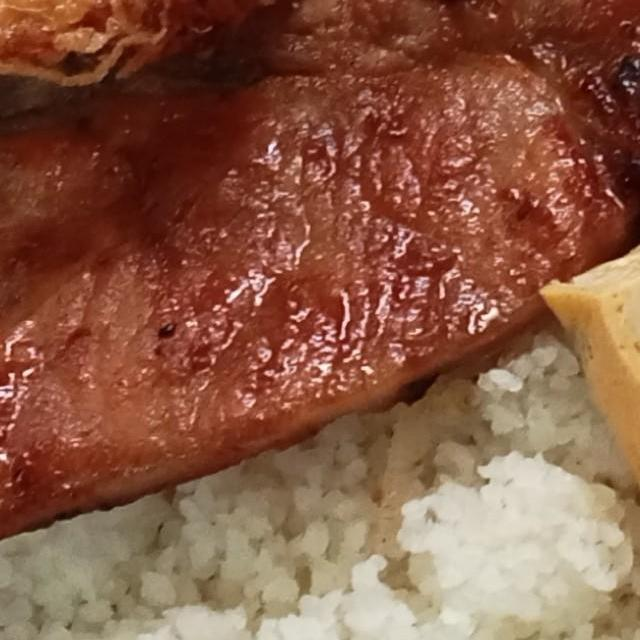com: (0, 300, 640, 640)
com suon bi cha trung: (0, 0, 640, 640)
suon: (0, 0, 640, 246)
